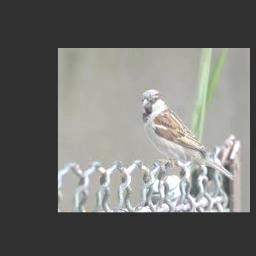Sparrow: (140, 89, 236, 183)
